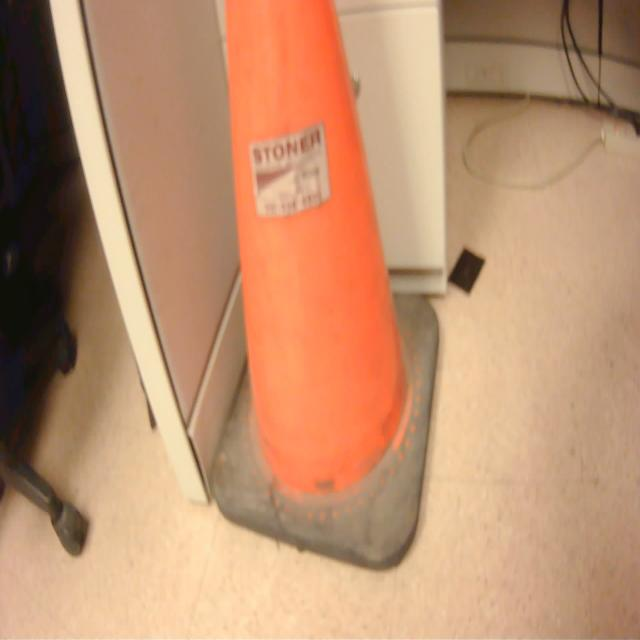traffic cone: (197, 1, 456, 589)
